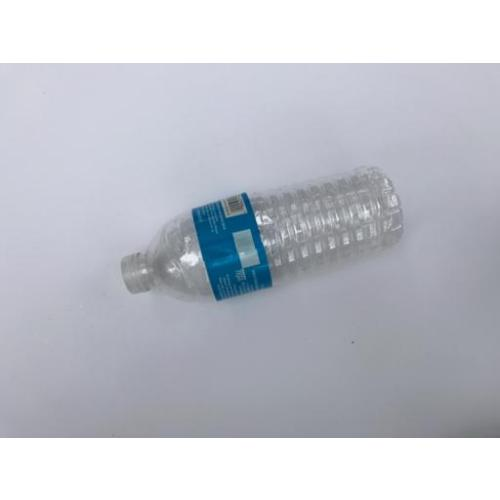plastic: (121, 169, 406, 302)
